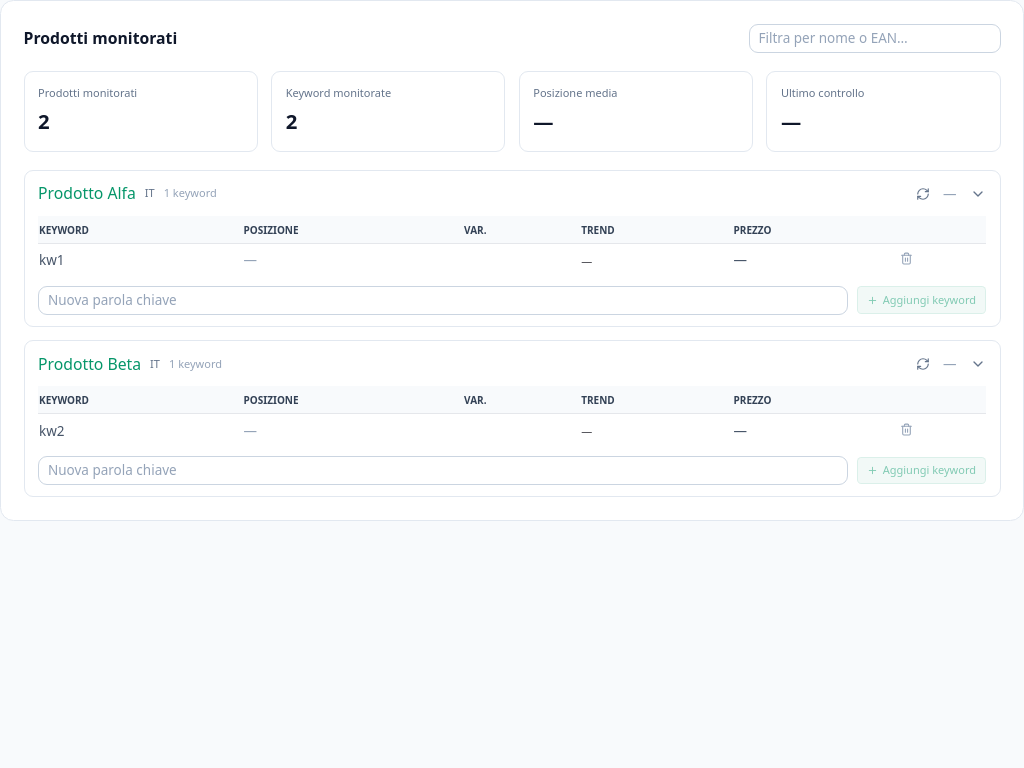
RedcareTrackedKeywords › lets the user filter the tracked product list by name or EAN
This screenshot has width=1024, height=768.
Expected: the text "Prodotto Alfa" is shown, [38,182,136,205]
Expected: the text "Prodotto Beta" is shown, [38,352,141,375]
Type "Alfa" into the field with placeholder "Filtra per nome o EAN…". click: (874, 38)
box: [748,24,1000,52]
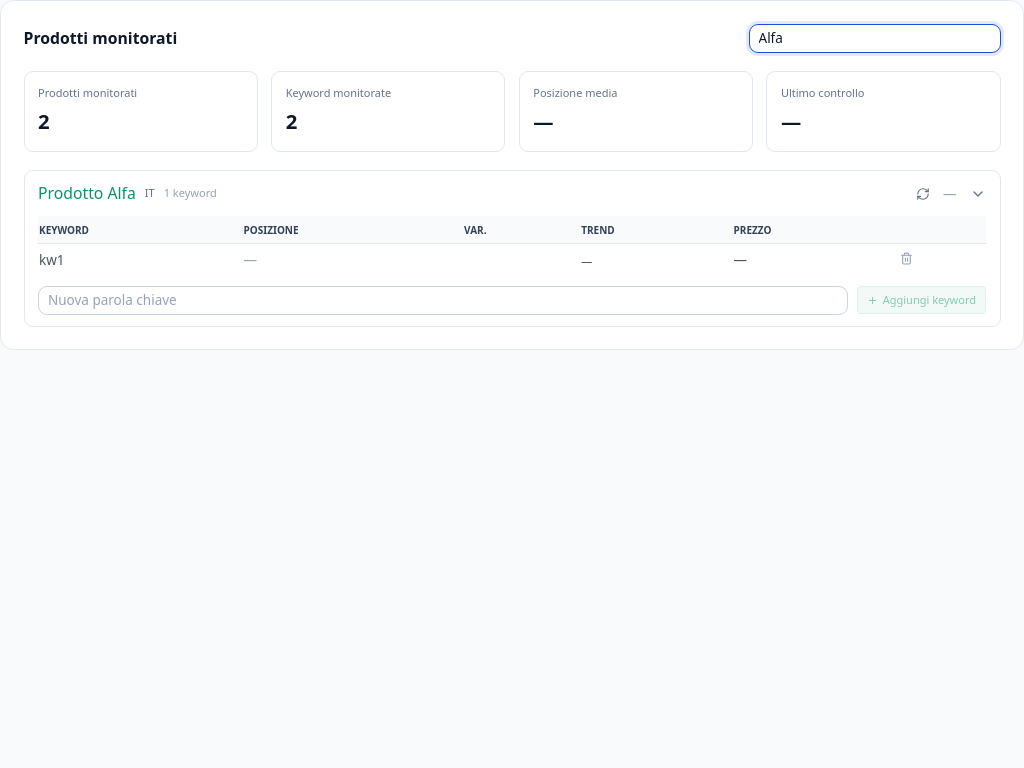
Expected: the text "Prodotto Alfa" is shown, [38,182,136,205]
Expected: the button "Prodotto Beta" is gone
